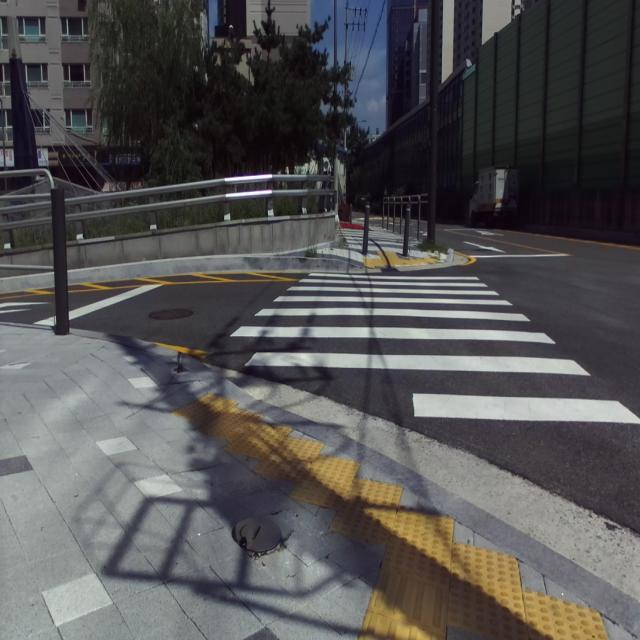횡단보도: (230, 273, 640, 424)
